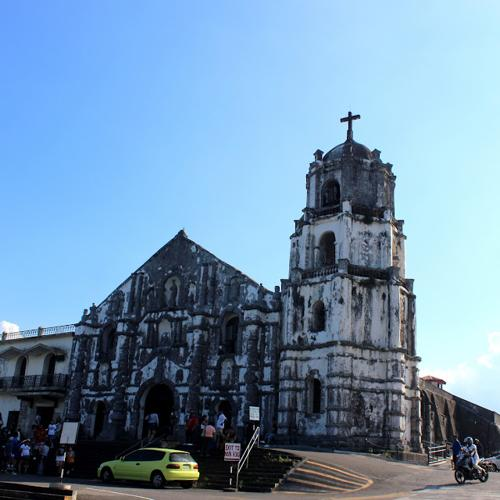Daraga Church: (61, 99, 428, 474)
